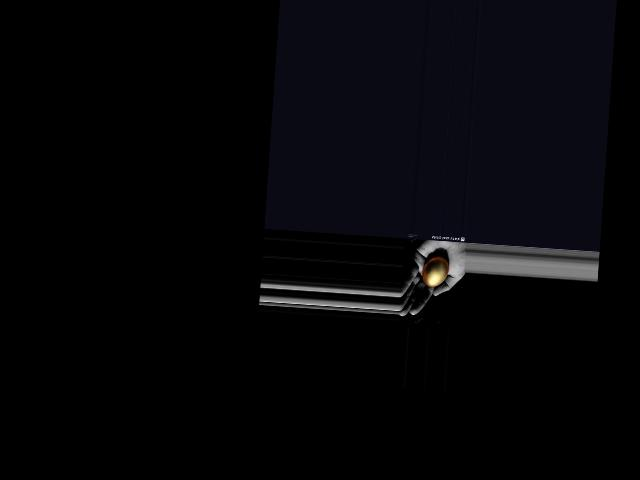egg: (421, 255, 448, 288)
